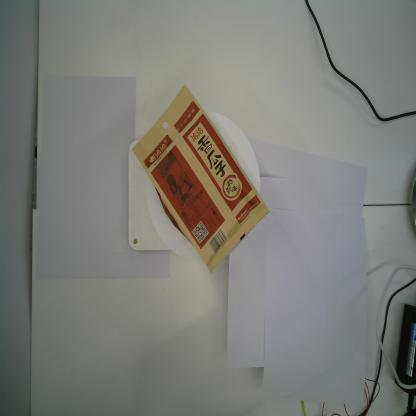Dried Food: (131, 82, 270, 275)
